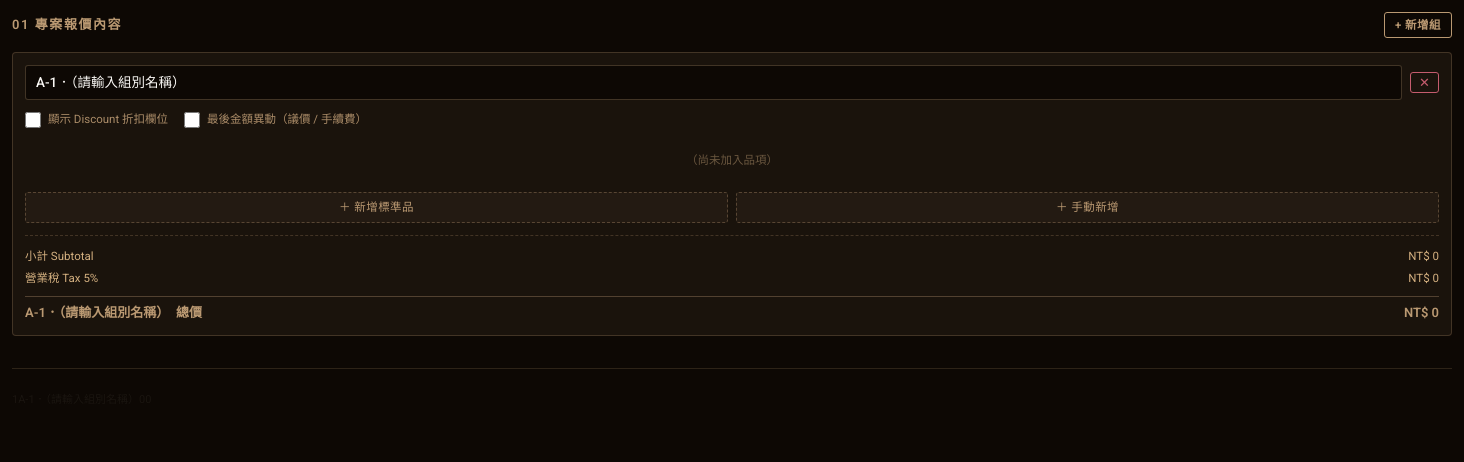
Test: GroupsSection — Adjustment row (Session 2.5) › toggling 議價/手續費 reveals the label + amount fields
What coordinates should you click on to do the following:
click the checkbox labelled "最後金額異動（議價 / 手續費）"
I would click on:
 (192, 120)
Its box is [184, 112, 200, 128].
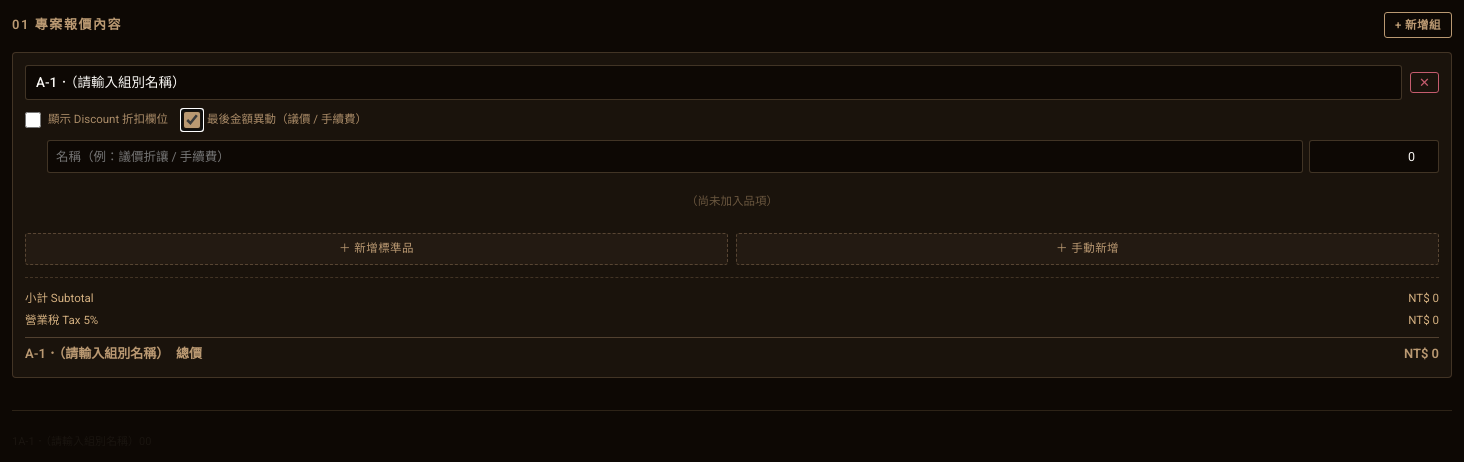
Check: the field named "金額異動名稱" is shown, box [47, 140, 1303, 173]
Check: the number field named "金額異動金額" is shown, box [1309, 140, 1439, 173]
